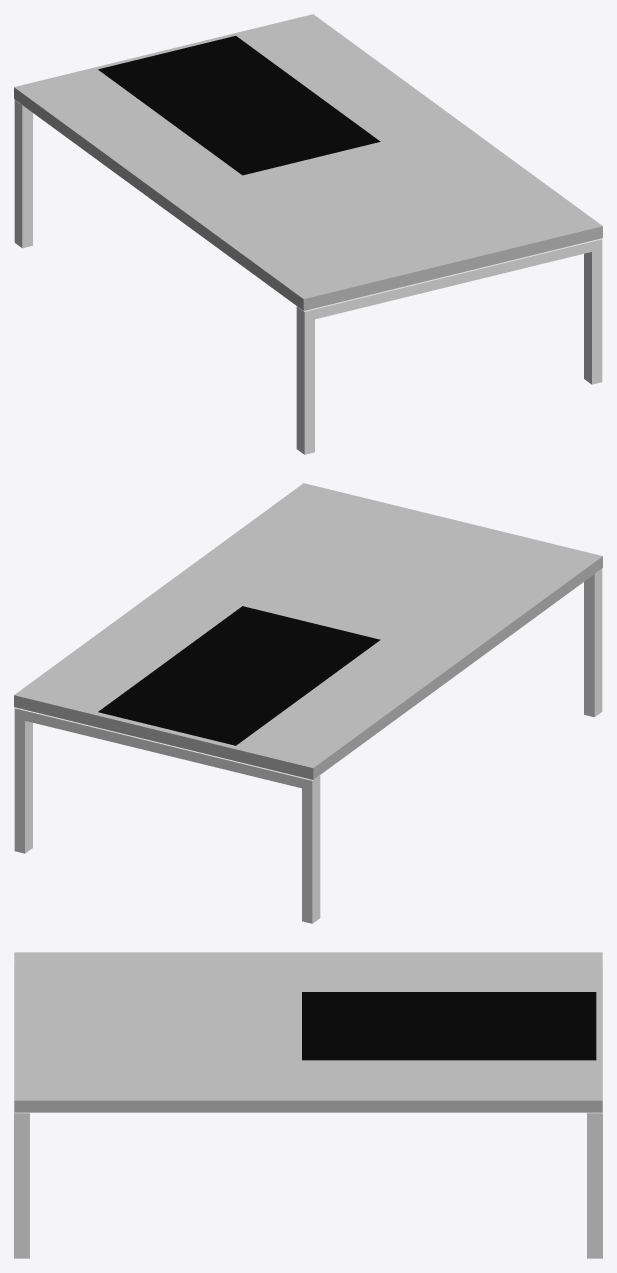
File: Mesa pequeña ascensor.fbx
The picture shows the model from 3 angles, top to bottom: view 1: azimuth 30°, elevation 25°; view 2: azimuth 150°, elevation 25°; view 3: azimuth 270°, elevation 25°; orthographic projection.
Parts seen in each view (by area): view 1: Table, Table.001, Base; view 2: Table, Table.001, Base; view 3: Table, Table.001, Base.
Part boxes in pixels (x1=…): Table: x1=14, y1=14, x2=602, y2=310; Table.001: x1=98, y1=36, x2=380, y2=175; Base: x1=14, y1=100, x2=602, y2=454; Table: x1=14, y1=483, x2=602, y2=779; Table.001: x1=98, y1=606, x2=380, y2=745; Base: x1=14, y1=569, x2=602, y2=923; Table: x1=14, y1=952, x2=602, y2=1112; Table.001: x1=302, y1=992, x2=596, y2=1060; Base: x1=14, y1=966, x2=602, y2=1258.
Bounding box in the file's own units: 362 × 180 × 607.
